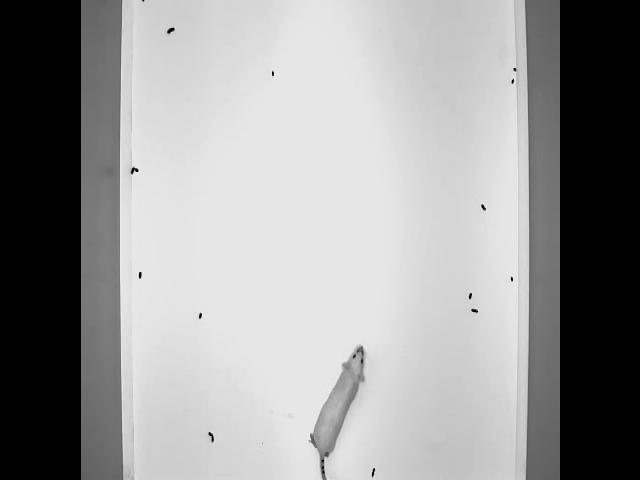Tikus: (309, 344, 367, 480)
